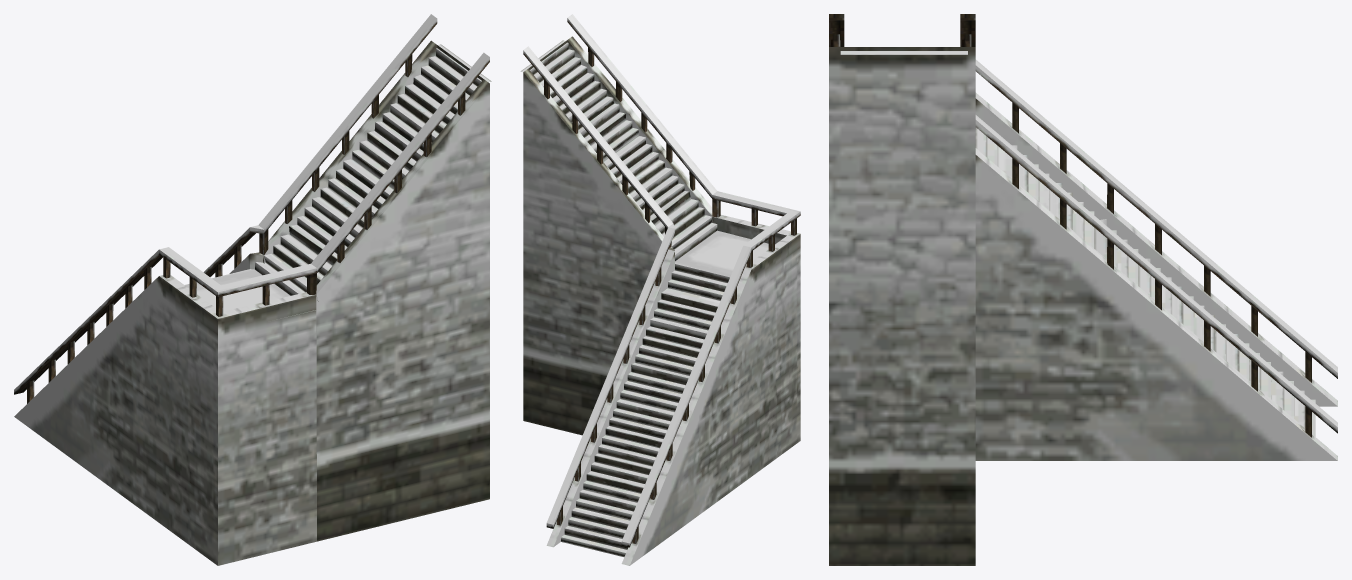
Rendered from general_obj_watchtower02-01.fbx.
3 renders of one model, left to right at view 1: azimuth 30°, elevation 25°; view 2: azimuth 150°, elevation 25°; view 3: azimuth 270°, elevation 25°, orthographic. The views are drawn at different scales.
Visible parts, largest first — view 1: general_obj_watchtower02; view 2: general_obj_watchtower02; view 3: general_obj_watchtower02.
Part boxes in pixels (bbox=[...]): general_obj_watchtower02: bbox=[14, 14, 491, 565]; general_obj_watchtower02: bbox=[520, 14, 800, 565]; general_obj_watchtower02: bbox=[829, 14, 1337, 565].
Size of the model in its own units: 7.99 by 12.12 by 10.12.
